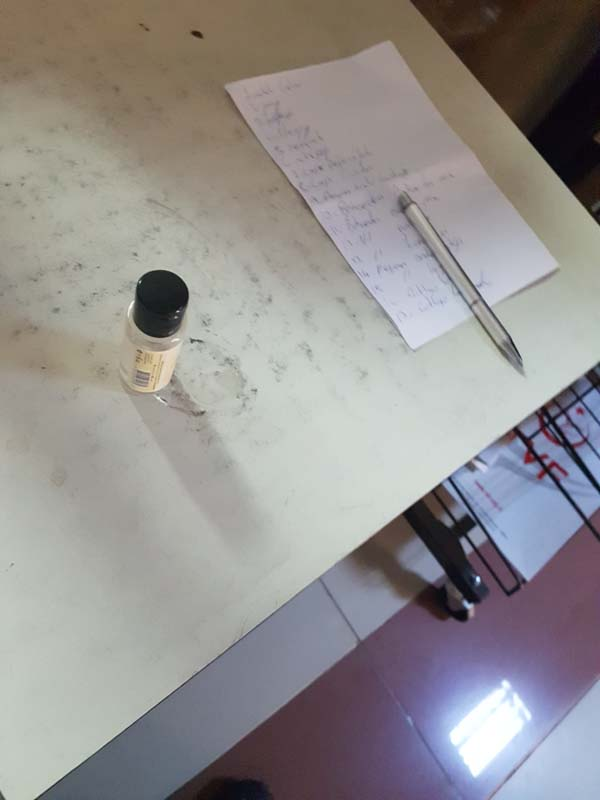redbulkolonya: (105, 264, 195, 399)
